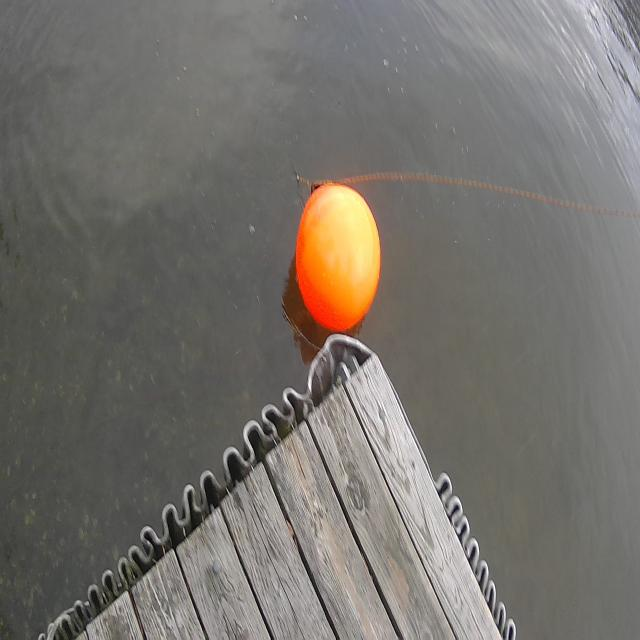Buoy: (293, 172, 383, 344)
